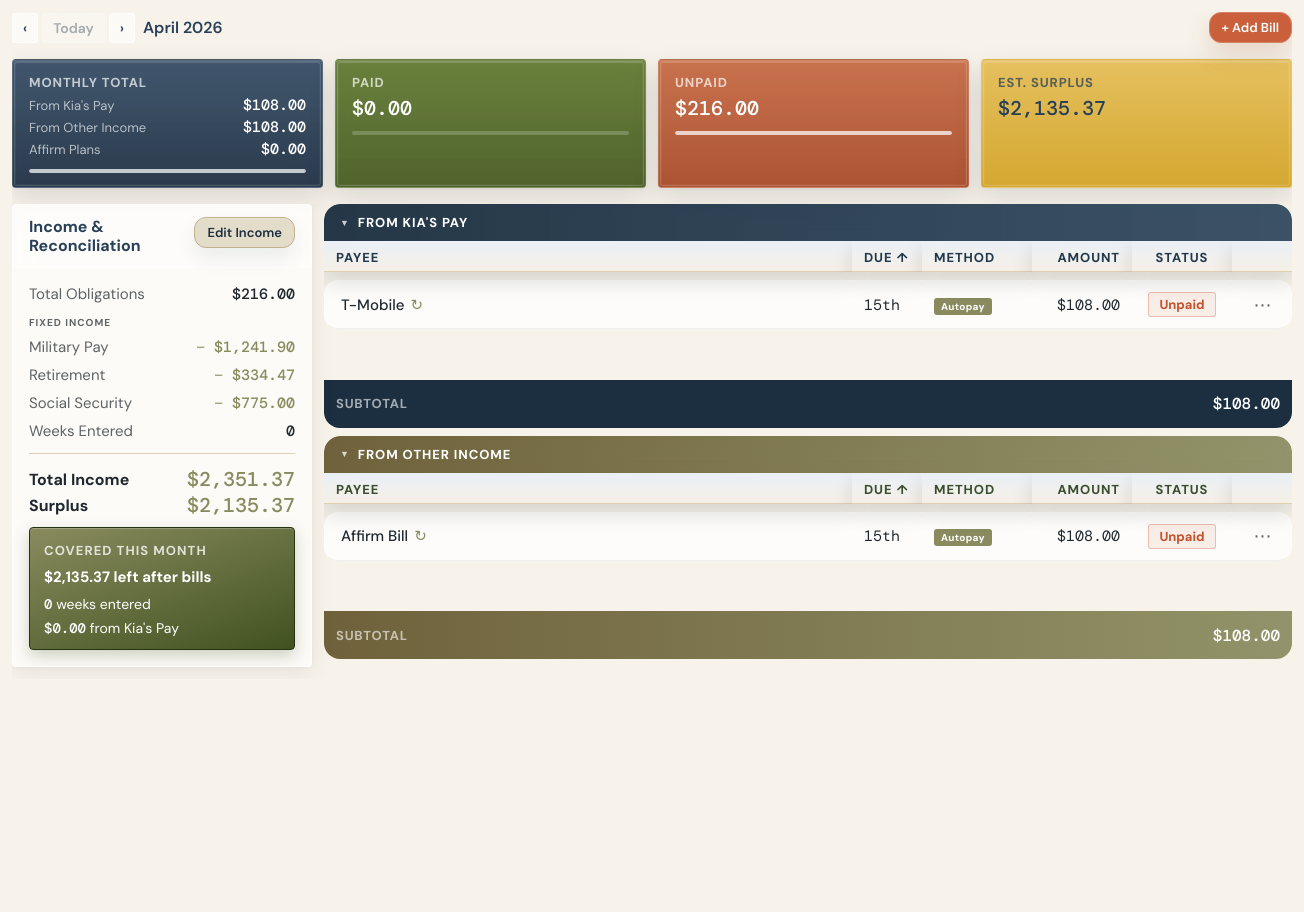
it: AccountsTab — BillGroup collapse toggle › from both-expanded, clicking Other collapses Other only
The image size is (1304, 912).
Click the button "▼ From Other Income" at (434, 454), box [324,436,1292,472]
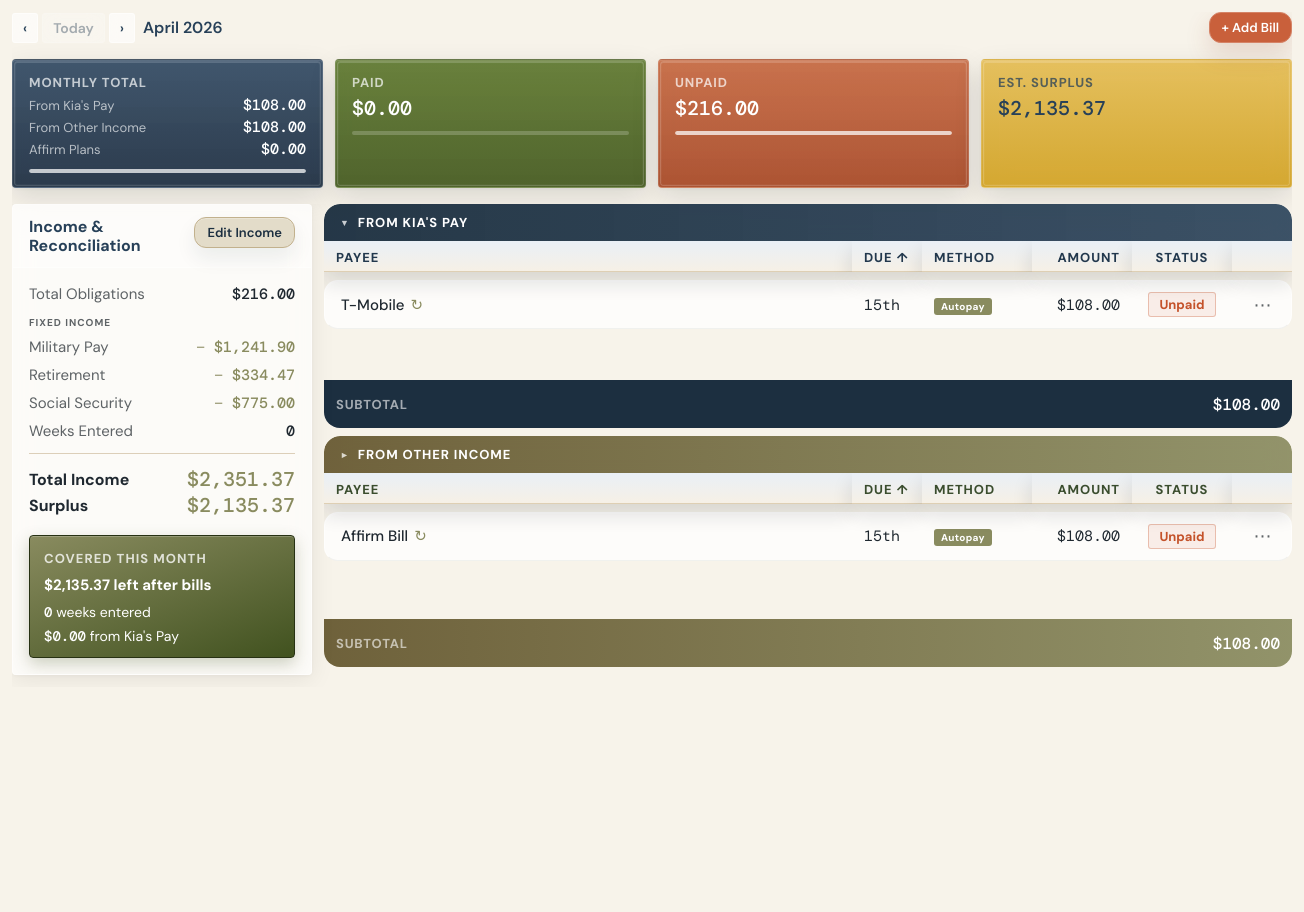
Check: the button "▼ From Kia's Pay" is shown, box [324,204,1292,241]
Check: the button "► From Other Income" is shown, box [324,436,1292,473]
